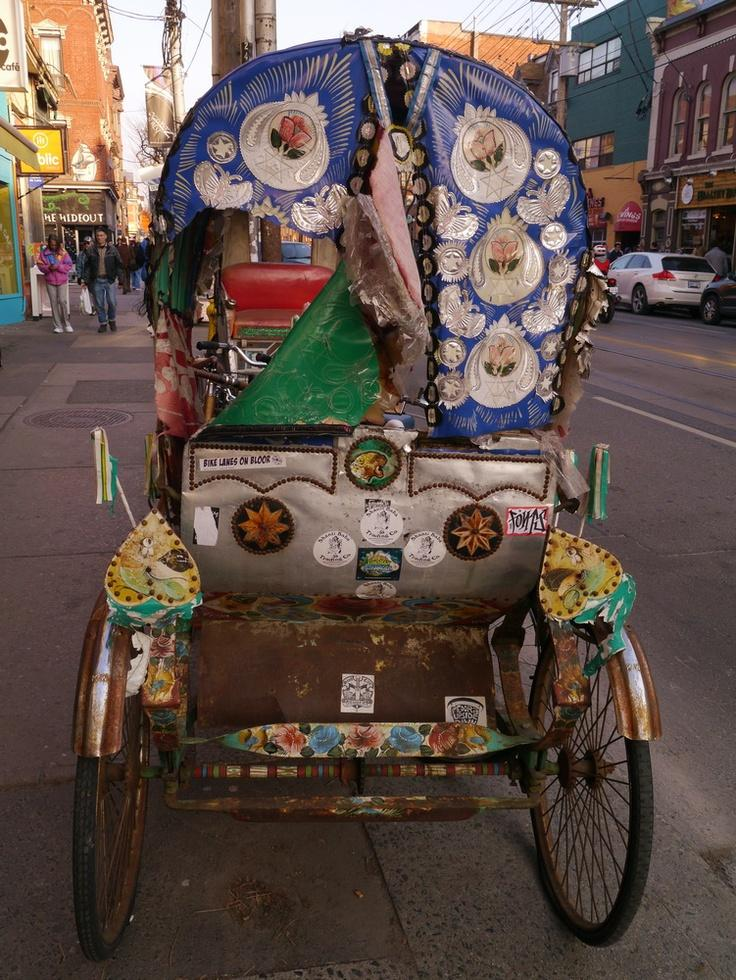Rickshaw: (54, 22, 678, 975)
